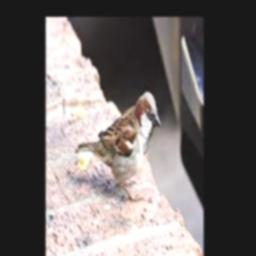Sparrow: (75, 90, 161, 199)
